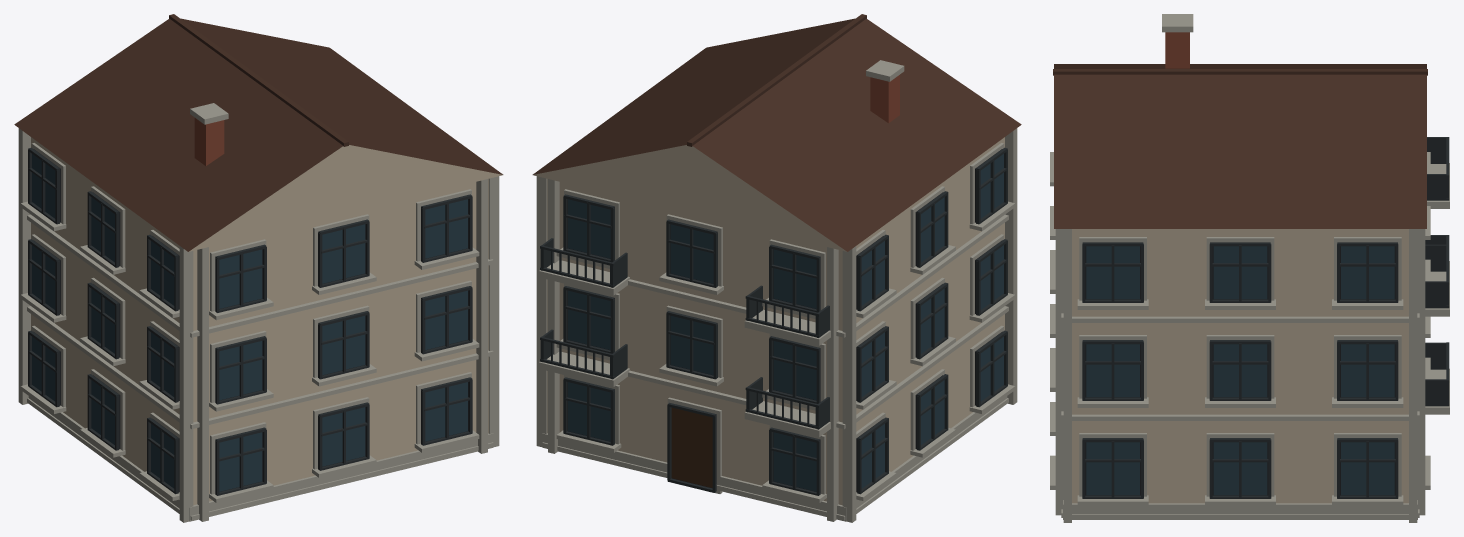
Rendered from HarborResidence.obj.
3 views of the same model, side by side, from view 1: azimuth 30°, elevation 25°; view 2: azimuth 150°, elevation 25°; view 3: azimuth 270°, elevation 25° (orthographic). The views are drawn at different scales.
Parts seen in each view (by area): view 1: HarborResidence; view 2: HarborResidence; view 3: HarborResidence.
Boxes of the visible parts, x1,y1,x2,y2 form: HarborResidence: [14, 14, 503, 522]; HarborResidence: [532, 14, 1021, 522]; HarborResidence: [1050, 14, 1449, 522].
Bounding box in the file's own units: 11.52 × 12.09 × 11.47.
